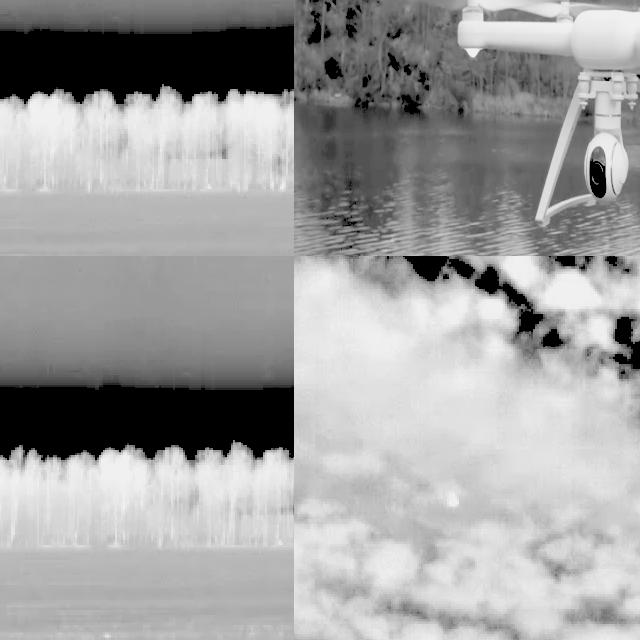0: (431, 481, 477, 519)
drone: (458, 0, 640, 236)
